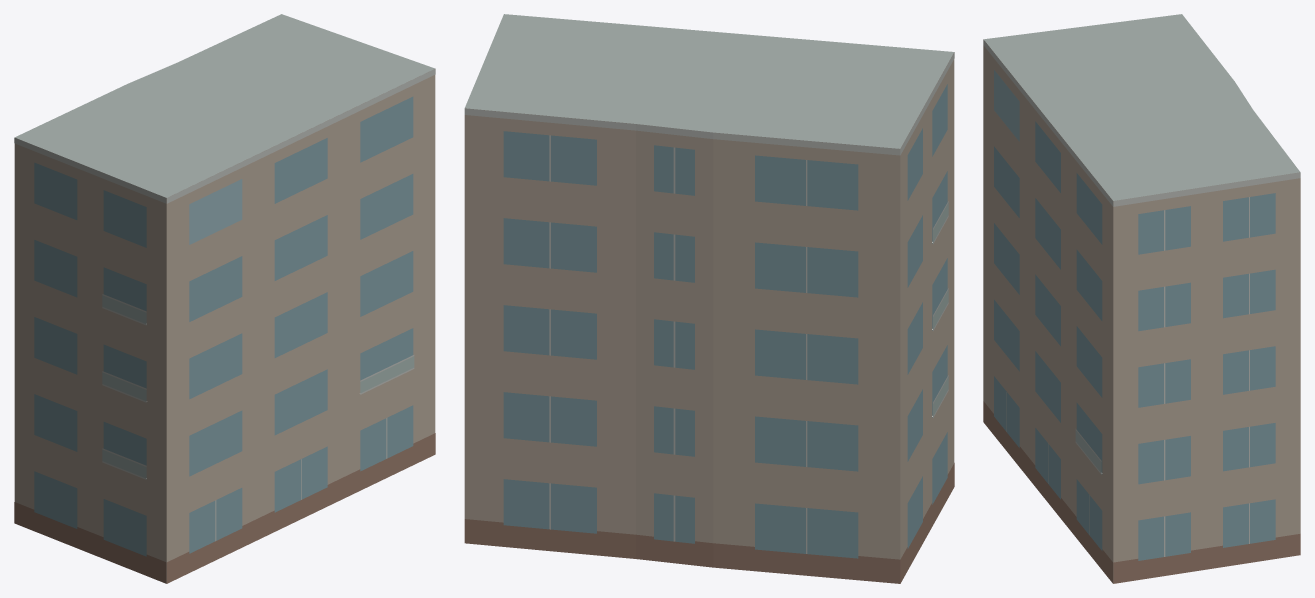
Rendered from survey-upis-33042104.glb.
3 renders of one model, left to right at view 1: azimuth 30°, elevation 25°; view 2: azimuth 150°, elevation 25°; view 3: azimuth 270°, elevation 25°, orthographic. The views are drawn at different scales.
Parts seen in each view (by area): view 1: survey-upis-33042104.tmp; view 2: survey-upis-33042104.tmp; view 3: survey-upis-33042104.tmp.
Part boxes in pixels (x1,y1,x2,y2): survey-upis-33042104.tmp: [14, 14, 435, 583]; survey-upis-33042104.tmp: [464, 14, 954, 583]; survey-upis-33042104.tmp: [983, 14, 1300, 583].
Size of the model in its own units: 16.72 by 15.95 by 11.98.
